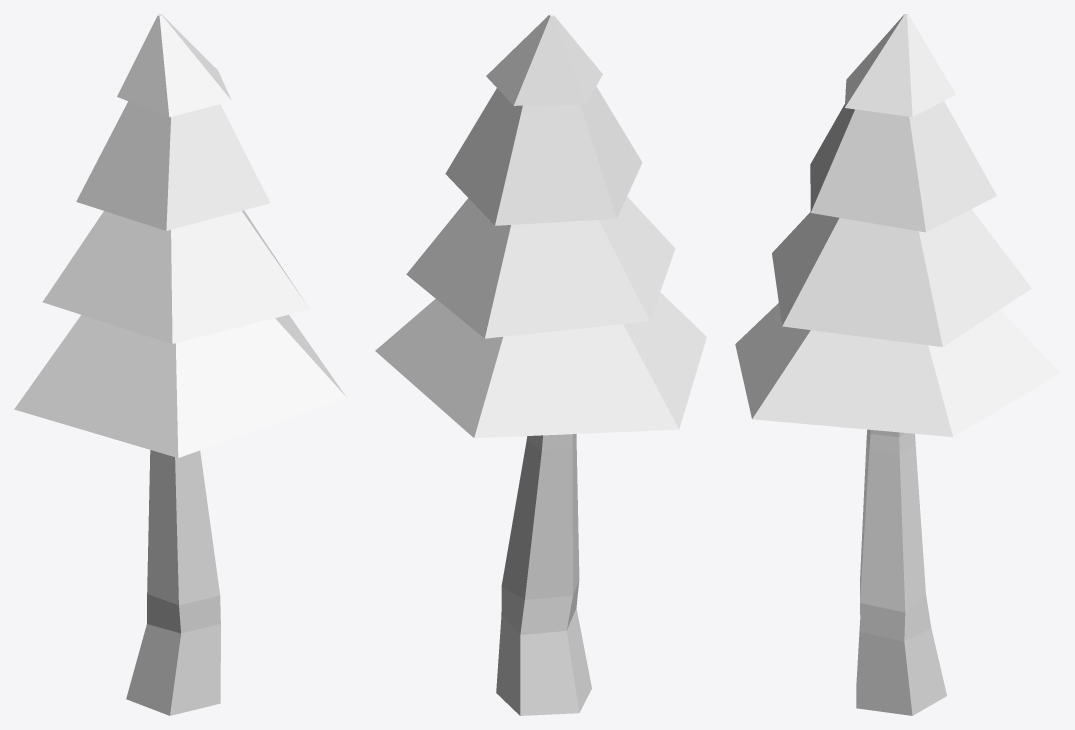
File: tree.sequoia.tall.glb
3 renders of one model, left to right at view 1: azimuth 30°, elevation 25°; view 2: azimuth 150°, elevation 25°; view 3: azimuth 270°, elevation 25°, orthographic.
Parts seen in each view (by area): view 1: sequoia.tall; view 2: sequoia.tall; view 3: sequoia.tall.
Part boxes in pixels (x1,y1,x2,y2): sequoia.tall: (14,14,346,715); sequoia.tall: (375,14,706,715); sequoia.tall: (735,14,1060,715).
Size of the model in its own units: 3.48 by 7.87 by 3.43.
Materials: 1 (1 with a texture image).
